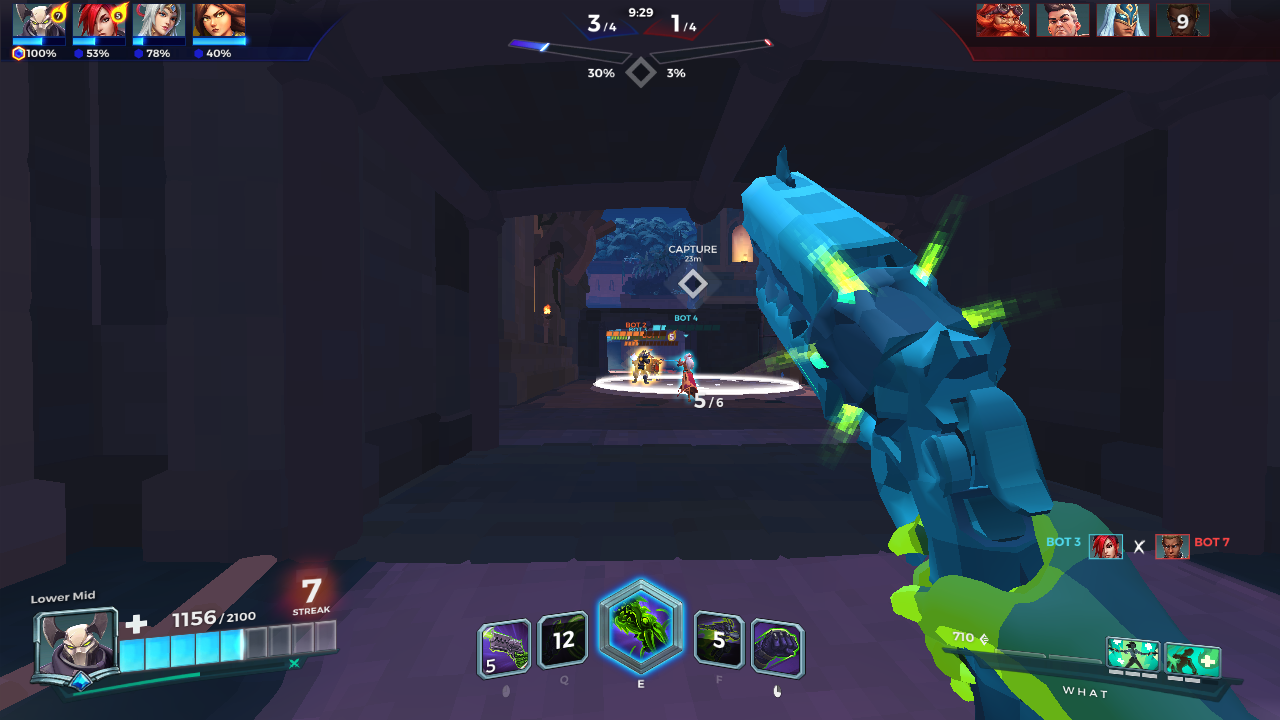model: (629, 342, 656, 393)
